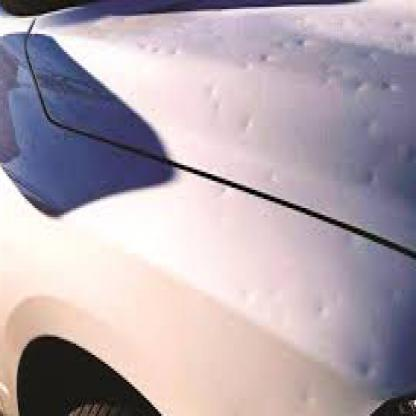dent: (132, 13, 410, 100), (355, 356, 381, 386)
